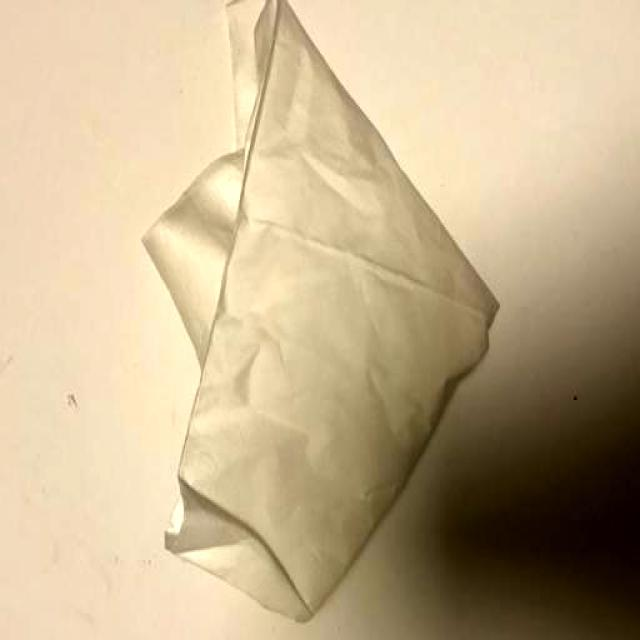Paper: (135, 0, 507, 630)
